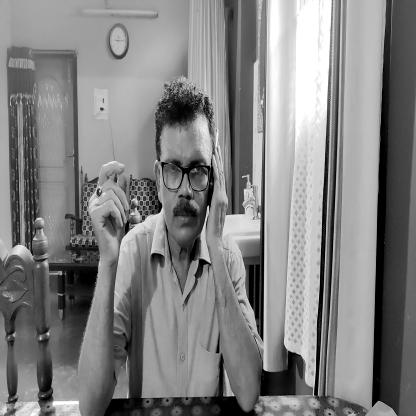Normal: (152, 78, 217, 246)
